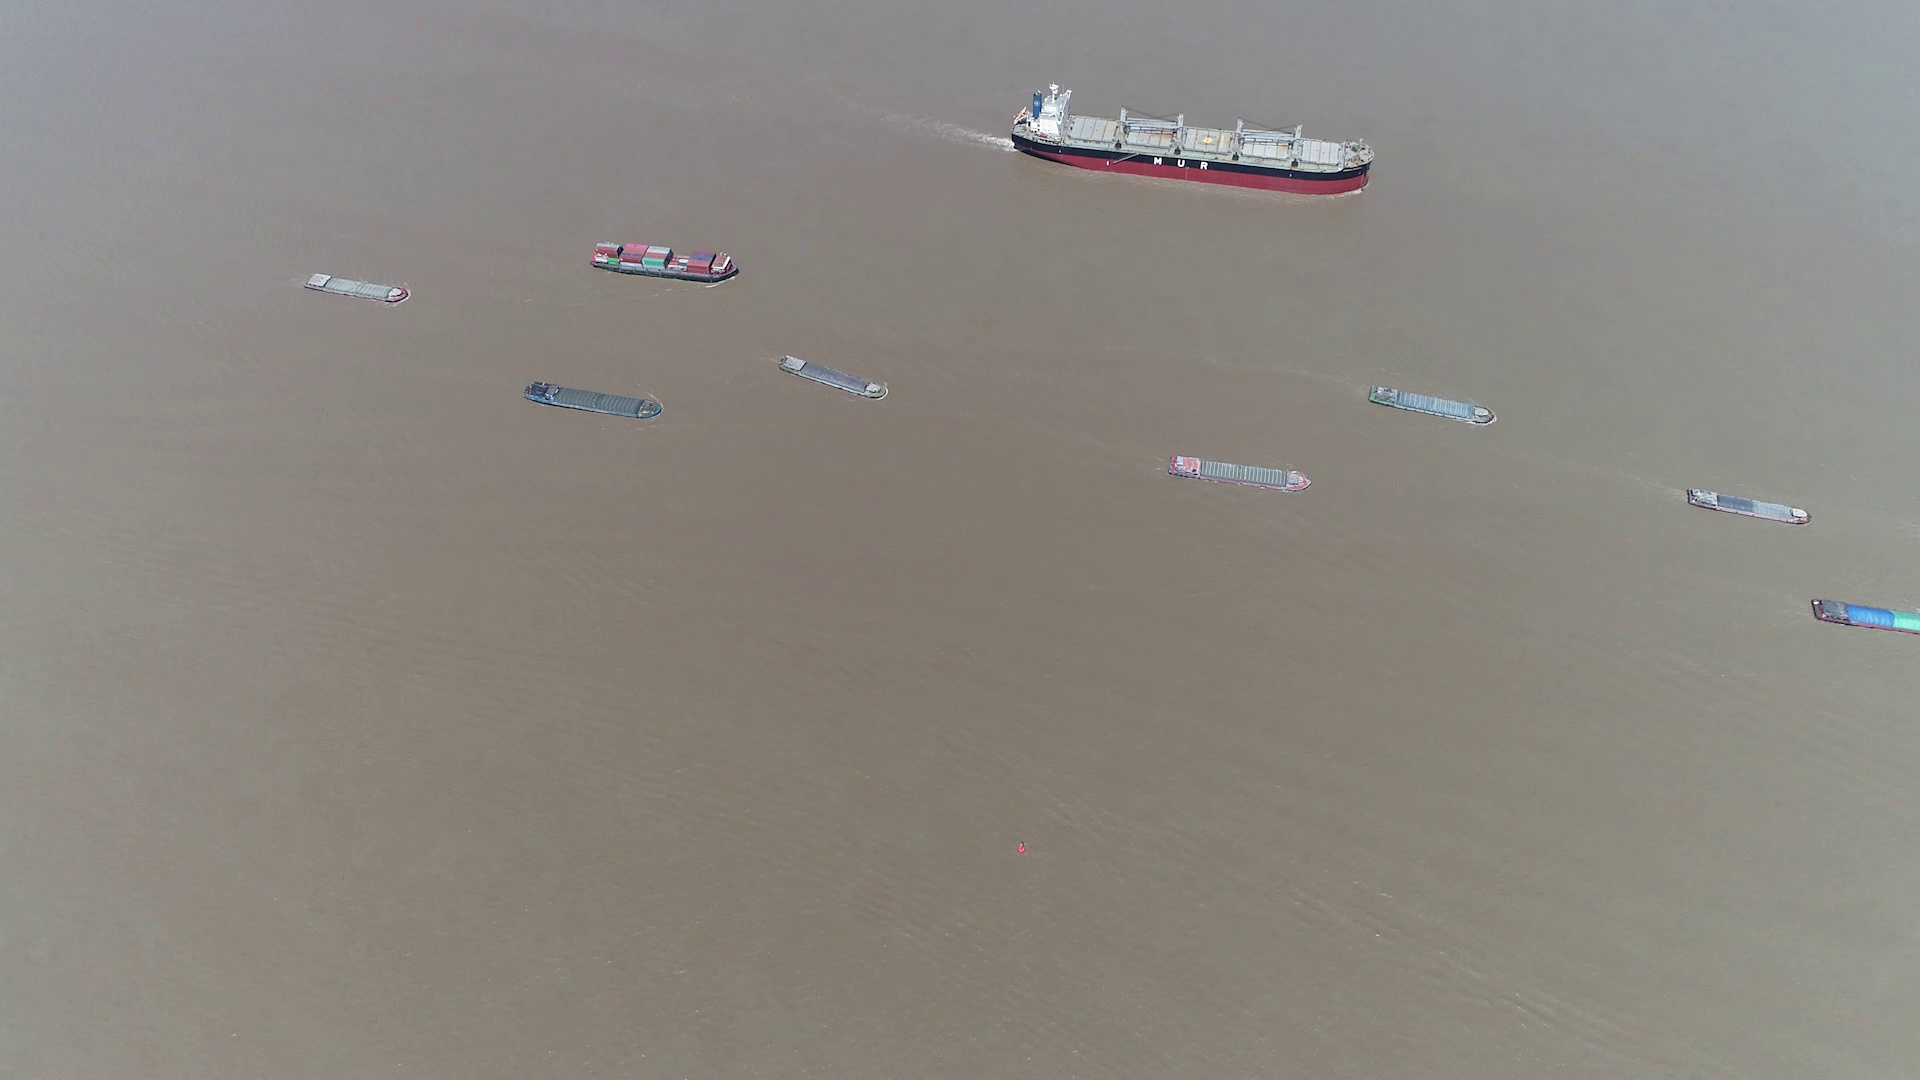ship: (1011, 88, 1369, 193), (592, 243, 738, 284), (1164, 451, 1311, 491), (1369, 382, 1498, 426), (524, 381, 659, 419), (779, 355, 887, 402), (1683, 487, 1811, 526), (1812, 597, 1919, 636), (302, 272, 409, 303)
